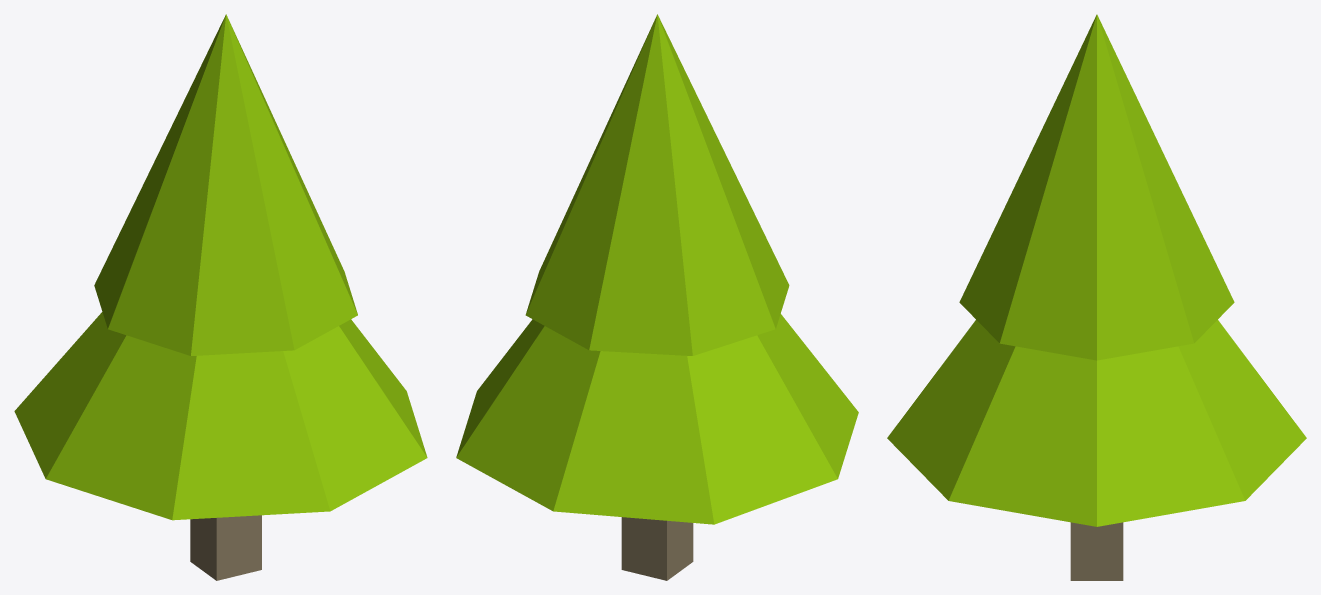
File: pine_6.fbx
The picture shows the model from 3 angles, left to right: view 1: azimuth 30°, elevation 25°; view 2: azimuth 150°, elevation 25°; view 3: azimuth 270°, elevation 25°; orthographic projection.
Parts seen in each view (by area): view 1: pine_6; view 2: pine_6; view 3: pine_6.
Part boxes in pixels (box(x1,y1,x2,y2)): pine_6: box(14, 14, 427, 580); pine_6: box(456, 14, 858, 580); pine_6: box(887, 14, 1306, 580).
Size of the model in its own units: 96.23 by 141 by 96.23.
